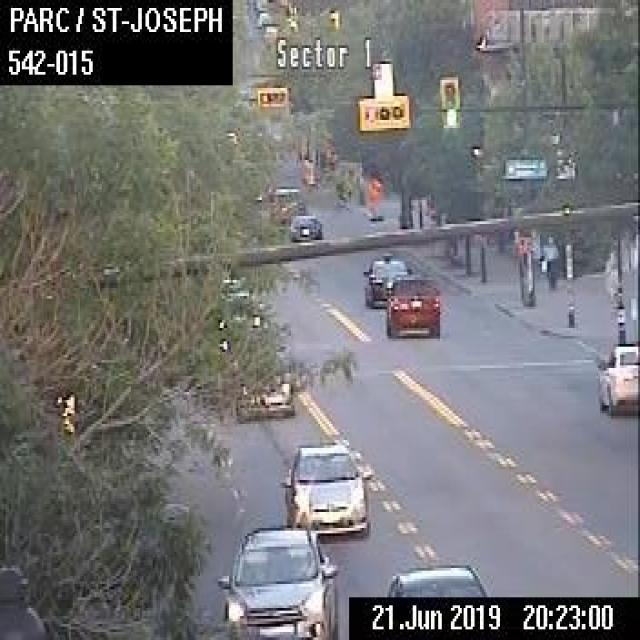construction: (367, 174, 383, 220)
vehicle: (222, 527, 336, 637), (278, 442, 372, 540), (592, 336, 638, 416), (383, 272, 439, 336), (385, 560, 486, 595), (360, 251, 410, 308), (234, 372, 293, 418), (264, 186, 303, 223), (285, 212, 322, 242)
